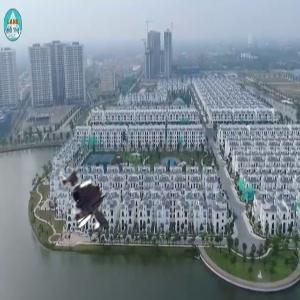drone: (33, 156, 133, 256)
